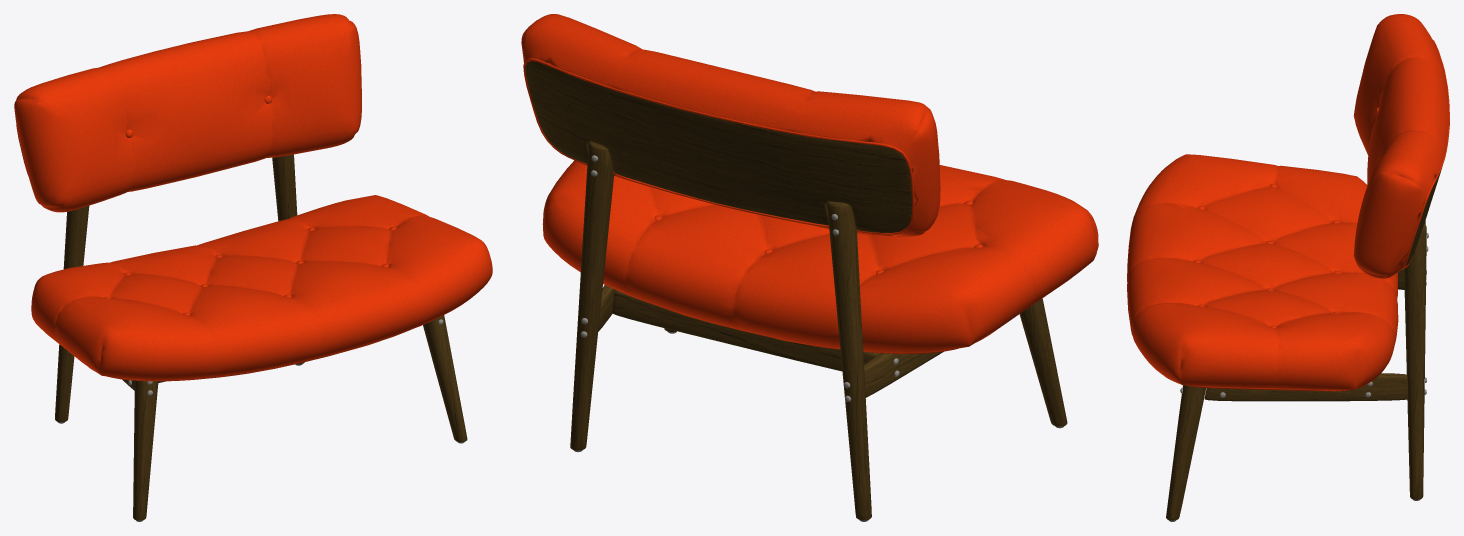
Rendered from chair-velvet.glb.
3 renders of one model, left to right at view 1: azimuth 30°, elevation 25°; view 2: azimuth 150°, elevation 25°; view 3: azimuth 270°, elevation 25°, orthographic. The views are drawn at different scales.
Visible parts, largest first — view 1: SheenChair_fabric, SheenChair_wood; view 2: SheenChair_fabric, SheenChair_wood; view 3: SheenChair_fabric, SheenChair_wood.
Boxes of the visible parts, x1,y1,x2,y2 form: SheenChair_fabric: (14, 14, 492, 381); SheenChair_wood: (55, 154, 467, 520); SheenChair_fabric: (521, 14, 1098, 353); SheenChair_wood: (525, 61, 1067, 520); SheenChair_fabric: (1127, 14, 1449, 391); SheenChair_wood: (1166, 168, 1441, 520).
Bounding box in the file's own units: 0.8266 × 0.6862 × 0.57.
Materials: 4 (3 with a texture image).
